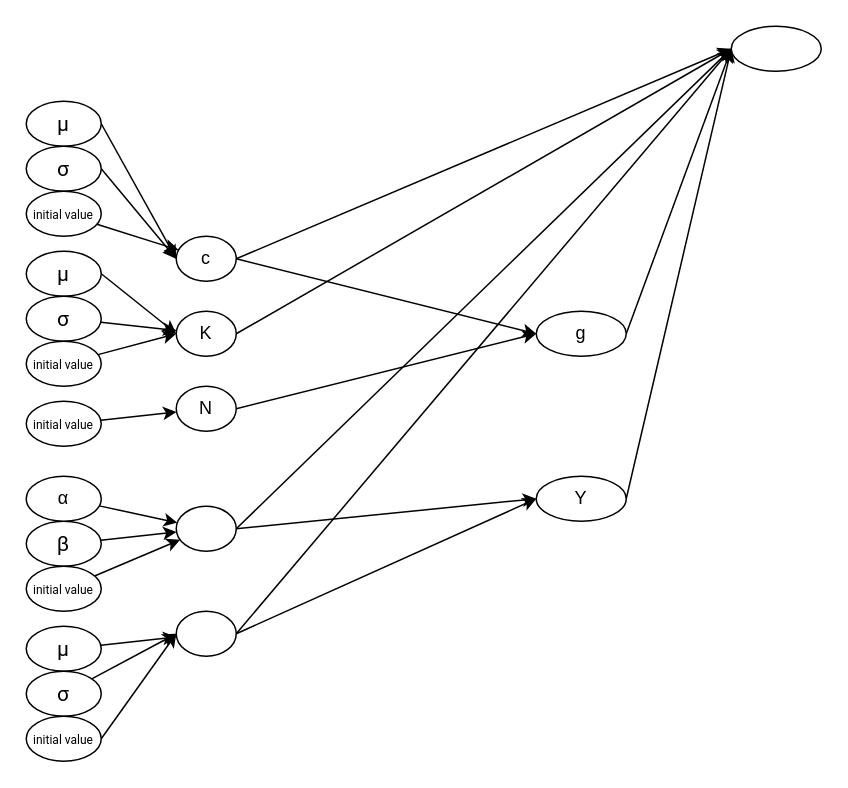
This 848x788 diagram has some shape labels left out. Each missing label, with the box of its shape:
alpha: (175, 505, 236, 551)
mu: (175, 610, 236, 656)
post: (730, 25, 821, 71)
